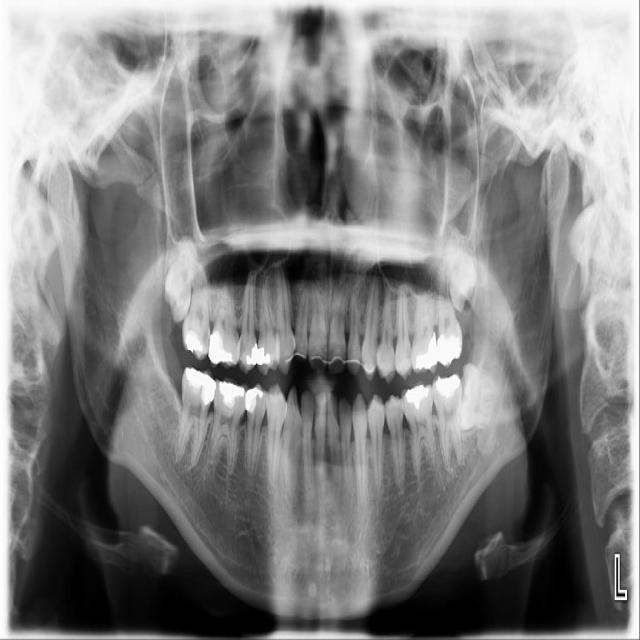Filling: (183, 367, 215, 405), (412, 330, 438, 374), (209, 331, 239, 367), (437, 330, 463, 368), (185, 326, 210, 359), (217, 381, 244, 410), (404, 382, 432, 409), (434, 375, 460, 398), (257, 343, 277, 371), (244, 386, 262, 415), (241, 338, 257, 370)
impacted tooth: (456, 363, 506, 434), (434, 225, 474, 310), (164, 233, 195, 319)
